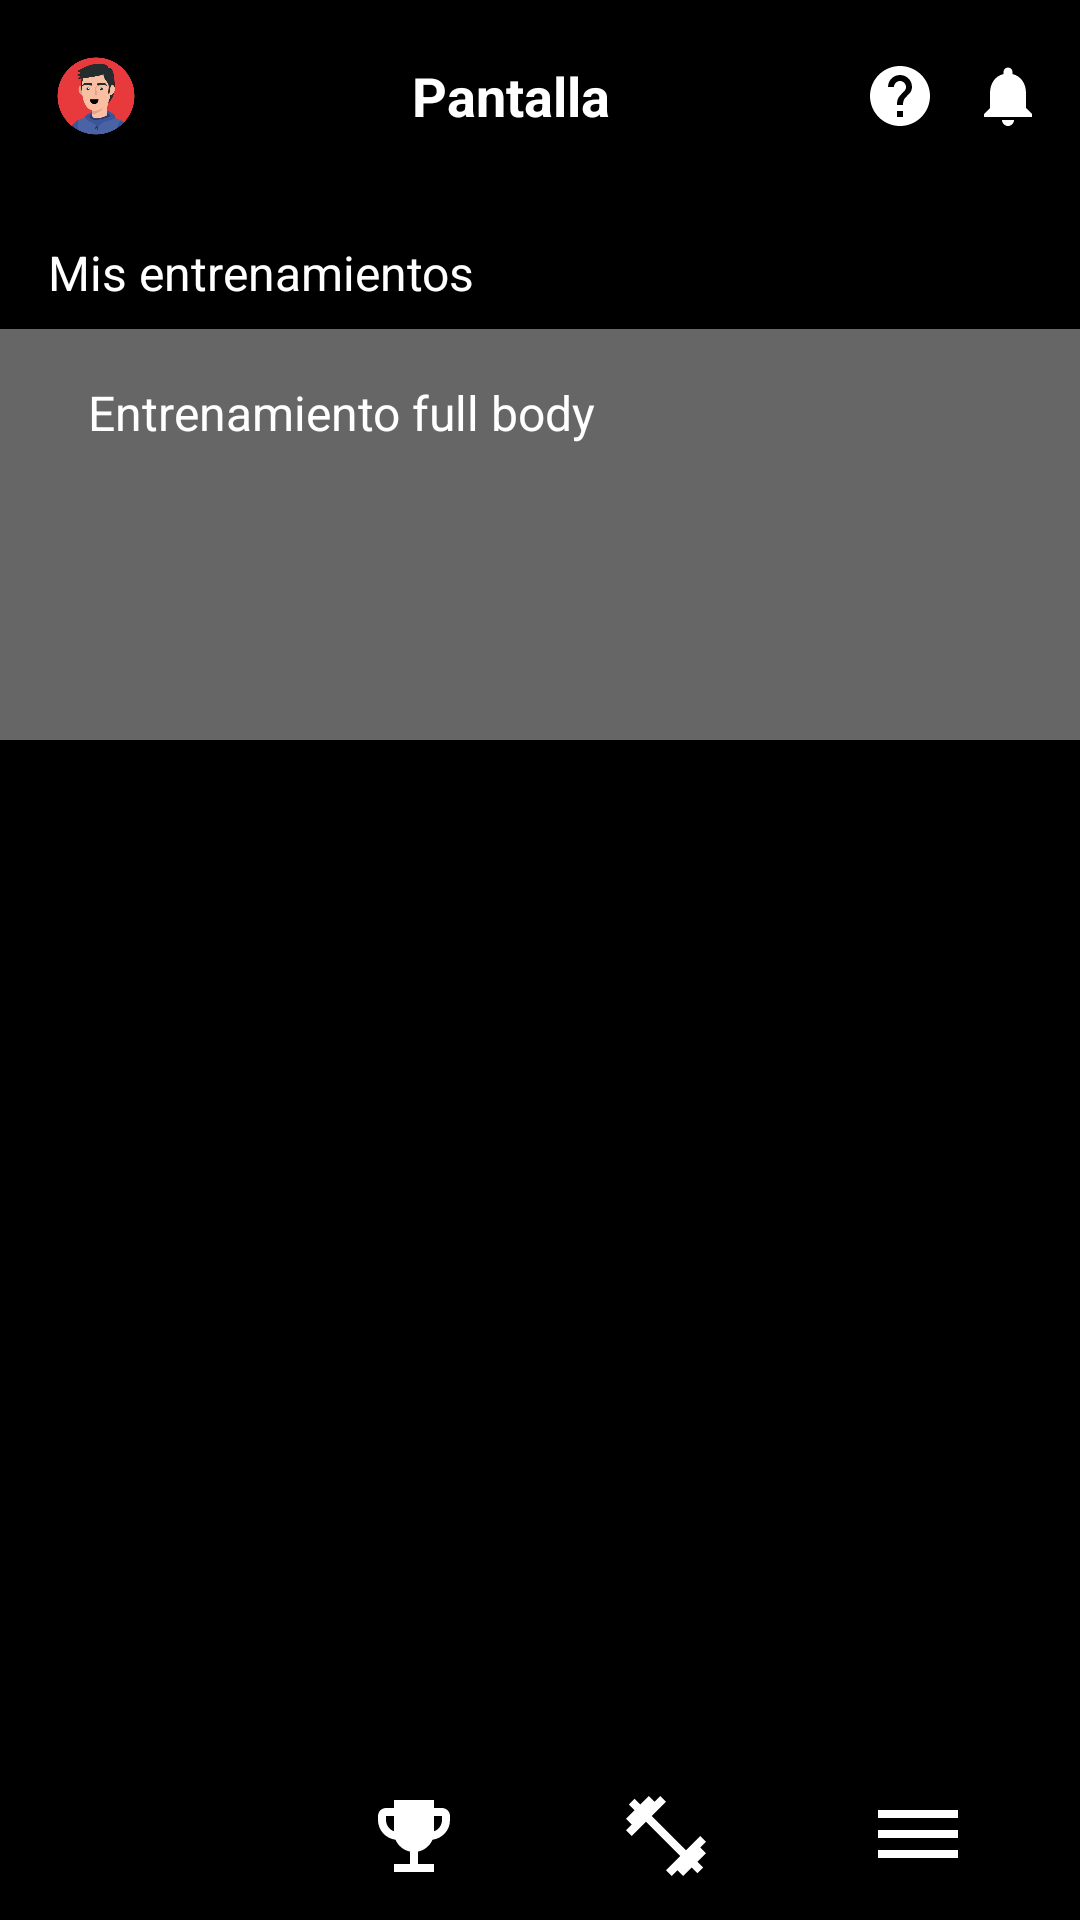

Where icons sit on this 1080*1920 app screen, as (x1=x1, y1=y1, x2=x2, y2=y2):
Ayuda: (x1=870, y1=66, x2=930, y2=126)
Icono de entrenamiento: (x1=626, y1=1796, x2=706, y2=1876)
Icono de logros: (x1=378, y1=1800, x2=450, y2=1872)
Icono del menú: (x1=878, y1=1810, x2=958, y2=1858)
Notificaciones: (x1=984, y1=67, x2=1032, y2=126)
